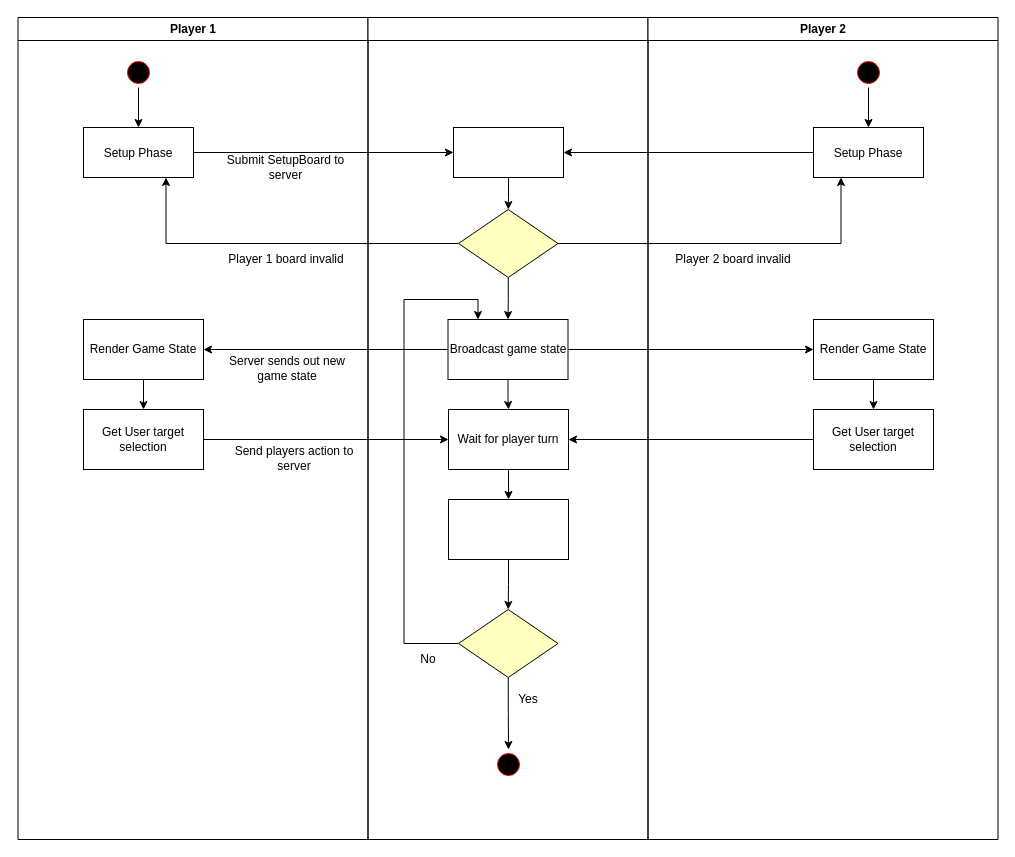
The diagram is 1015 pixels wide and 857 high, and some of its shapes have lost their labels. The box of each missing label's shape, as (x1, y1, x2, y2) in pixels:
Compute new game state: (448, 498, 568, 560)
Game won?: (458, 608, 558, 678)
Get Boards: (452, 126, 564, 178)
Server: (367, 16, 648, 840)
Validate Boards: (458, 208, 558, 278)
